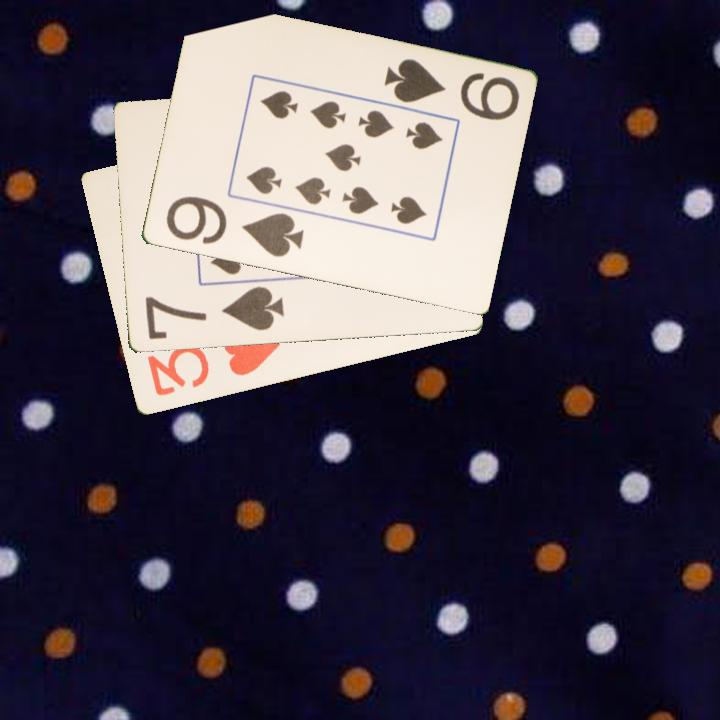3h: (143, 329, 283, 400)
7s: (141, 283, 287, 343)
9s: (162, 193, 307, 261), (380, 55, 522, 124)
